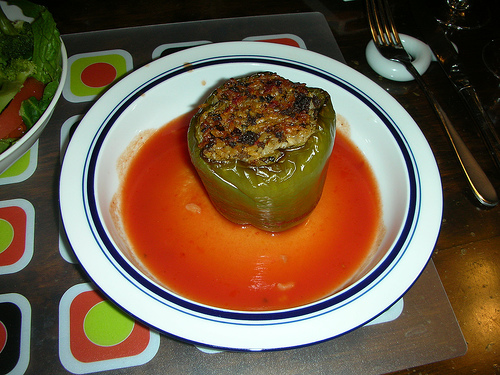capsicum: (186, 71, 337, 231)
